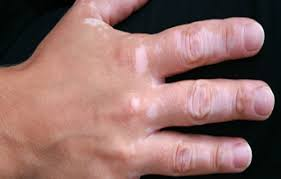vitiligo: (50, 11, 257, 169)
